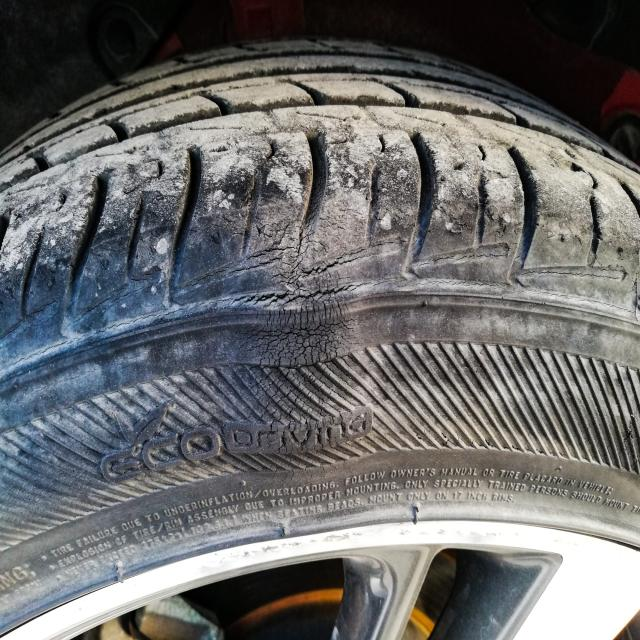Bulge: (215, 222, 389, 492)
